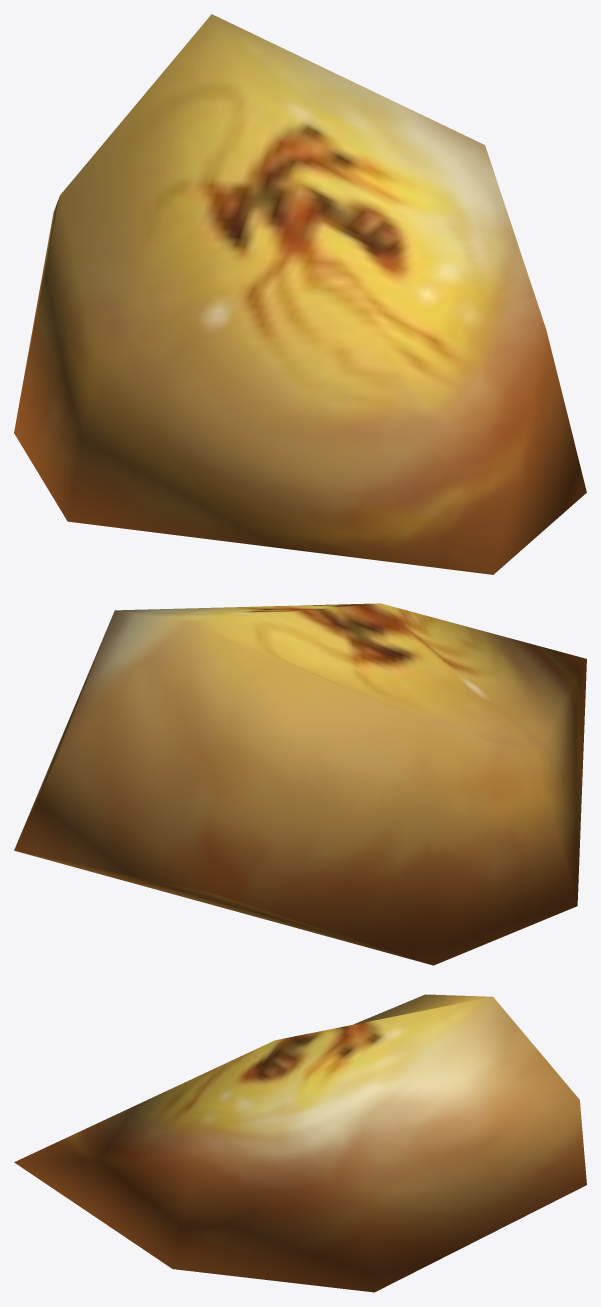
The model's file is GAM_LootResin.FBX.
3 renders of one model, top to bottom at view 1: azimuth 30°, elevation 25°; view 2: azimuth 150°, elevation 25°; view 3: azimuth 270°, elevation 25°, orthographic. The views are drawn at different scales.
Visible parts, largest first — view 1: GAM_LootResin; view 2: GAM_LootResin; view 3: GAM_LootResin.
Part boxes in pixels (bbox=[...]): GAM_LootResin: bbox=[14, 14, 586, 574]; GAM_LootResin: bbox=[14, 603, 586, 965]; GAM_LootResin: bbox=[14, 994, 586, 1292].
Bounding box in the file's own units: 15.04 × 9.89 × 22.6.
